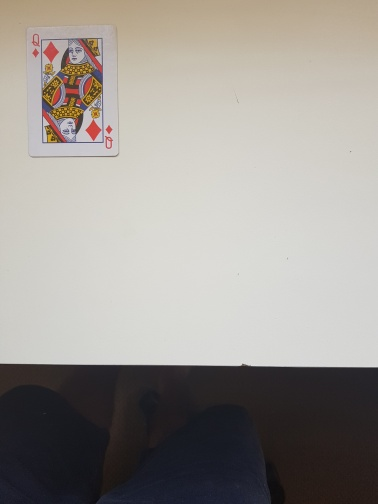queen: (25, 24, 121, 159)
